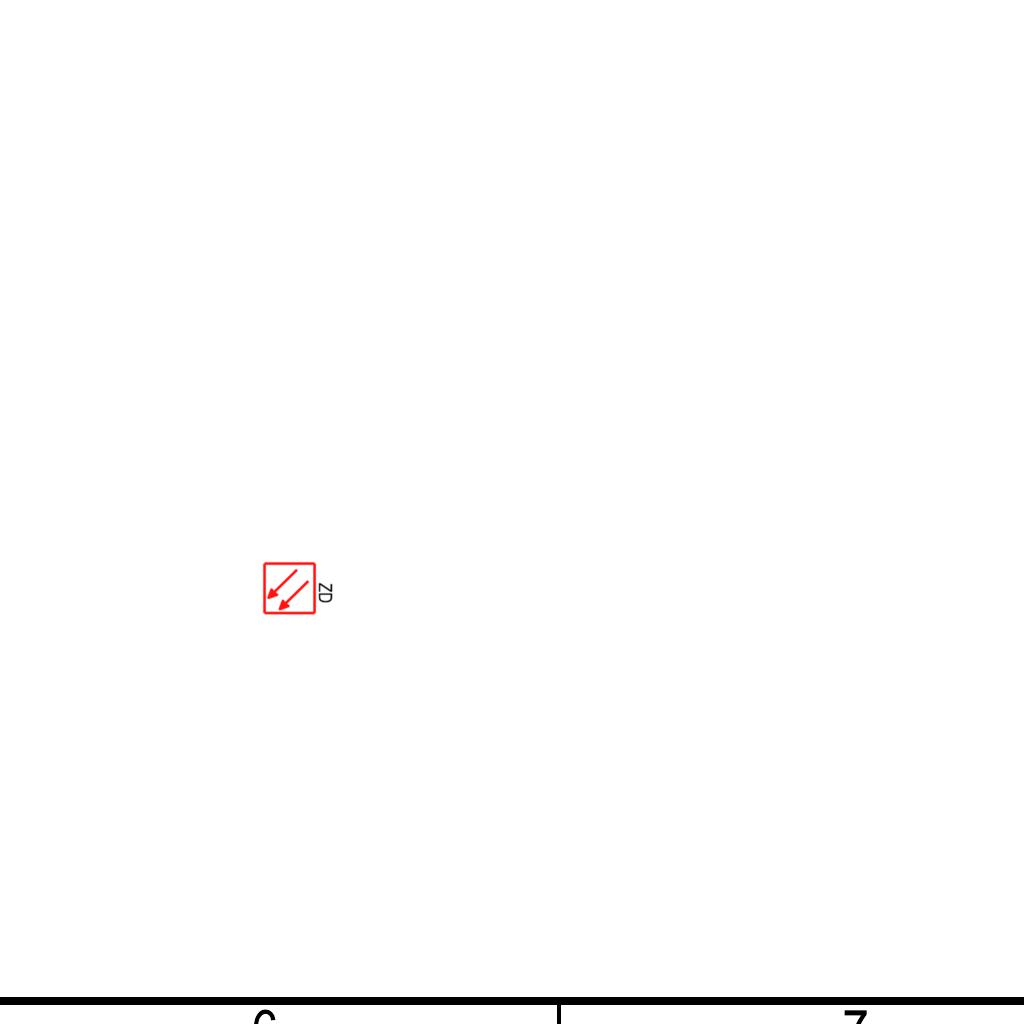ZD_Melder_in_Zwischendecke_mit_Revisionsoeffnung_mind_40_x_40_cm: (262, 559, 336, 616)
